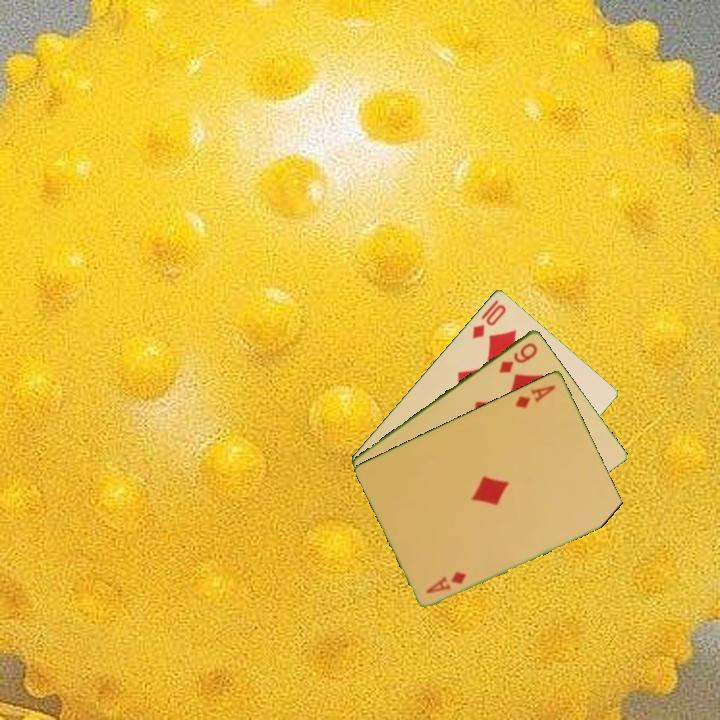10d: (468, 296, 509, 342)
9d: (495, 339, 541, 376)
Ad: (512, 381, 559, 411), (423, 567, 469, 596)
